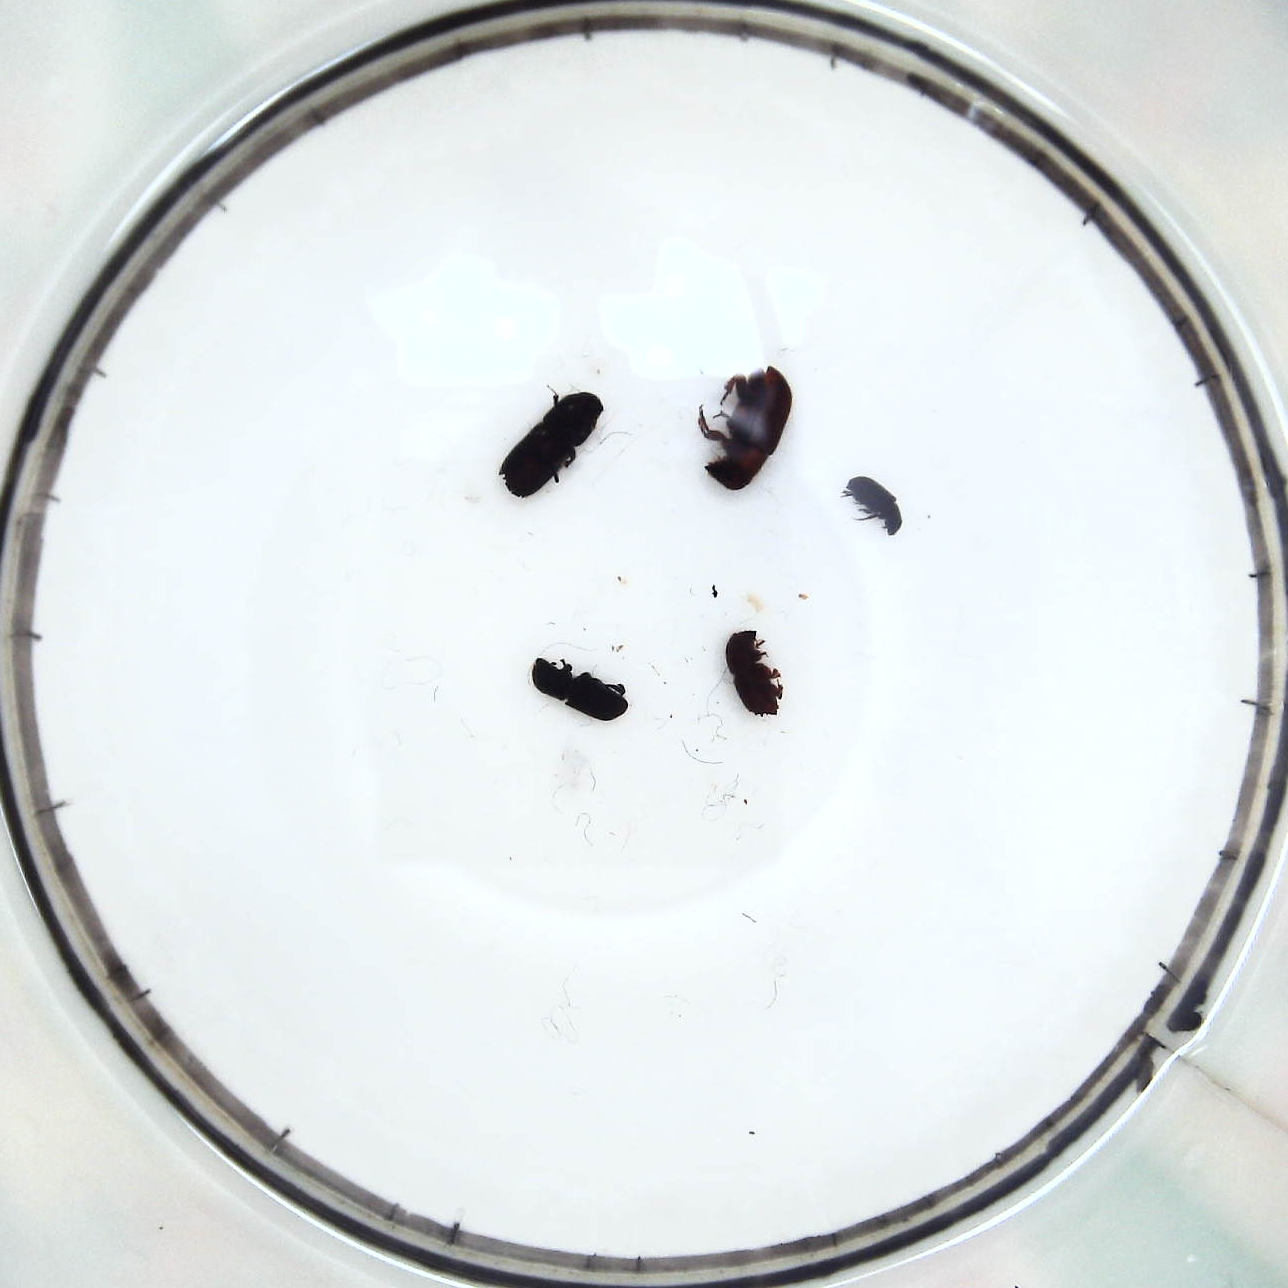Boerner: (499, 387, 602, 497)
Leconte: (698, 364, 799, 493)
Linnaeus: (723, 624, 787, 719)
armandi: (532, 657, 627, 722)
coleoptera: (843, 474, 902, 535)
